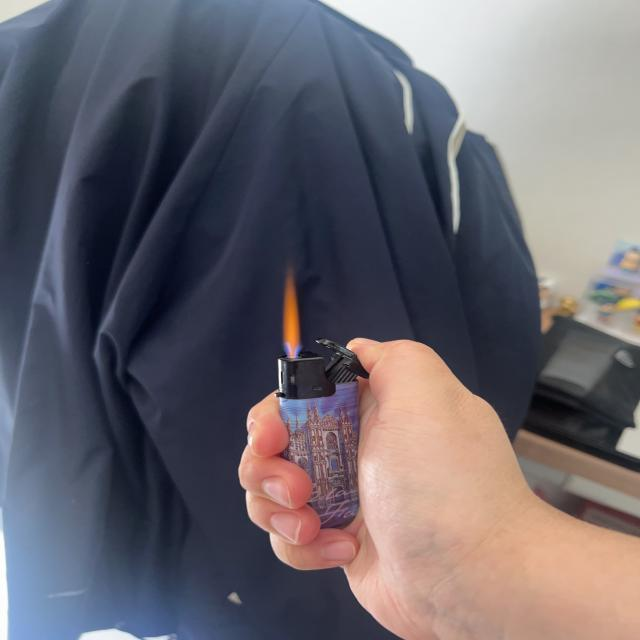fire: (278, 272, 304, 358)
